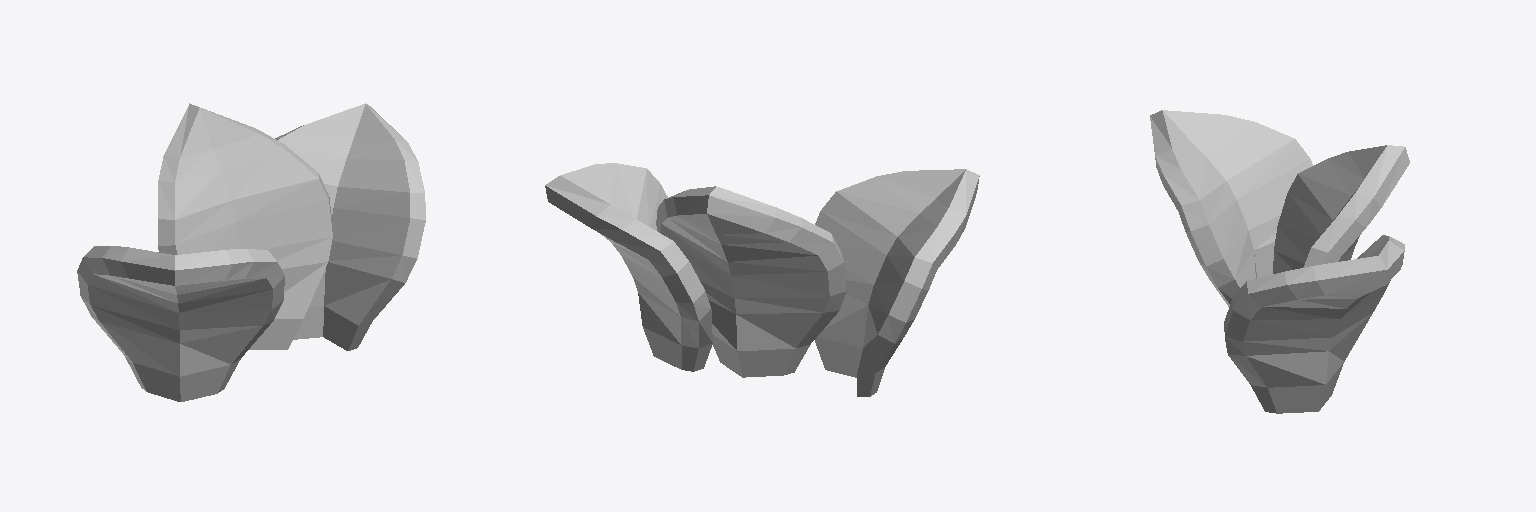
The model's file is foliage_B.obj.
3 views of the same model, side by side, from view 1: azimuth 30°, elevation 25°; view 2: azimuth 150°, elevation 25°; view 3: azimuth 270°, elevation 25° (orthographic).
Visible parts, largest first — view 1: foliage_B; view 2: foliage_B; view 3: foliage_B.
Part boxes in pixels (left/top/right/bottom): foliage_B: left=77, top=103, right=425, bottom=401; foliage_B: left=545, top=163, right=979, bottom=396; foliage_B: left=1150, top=110, right=1409, bottom=413.
Size of the model in its own units: 0.7017 by 0.4319 by 0.4645.